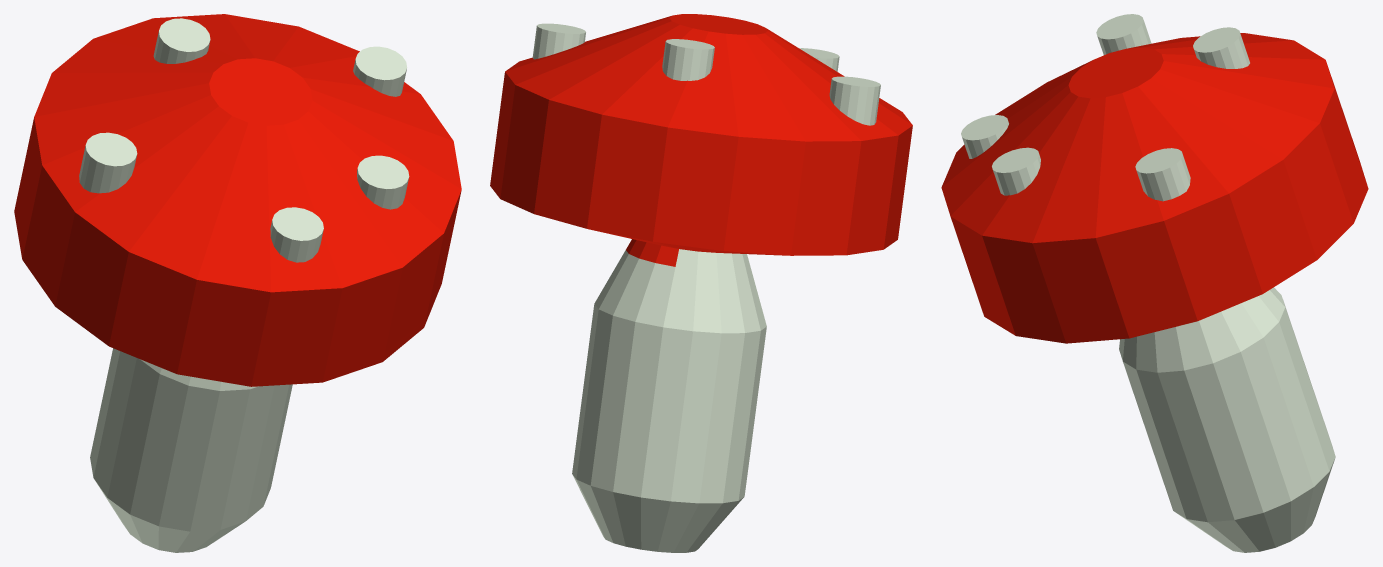
Rendered from cat1_mush.gltf.
3 renders of one model, left to right at view 1: azimuth 30°, elevation 25°; view 2: azimuth 150°, elevation 25°; view 3: azimuth 270°, elevation 25°, orthographic. The views are drawn at different scales.
Parts seen in each view (by area): view 1: Mushroom.005; view 2: Mushroom.005; view 3: Mushroom.005.
Part boxes in pixels (left/top/right/bottom): Mushroom.005: left=14, top=14, right=461, bottom=552; Mushroom.005: left=490, top=14, right=912, bottom=552; Mushroom.005: left=941, top=14, right=1368, bottom=552.
Size of the model in its own units: 0.0826 by 0.1114 by 0.086.
